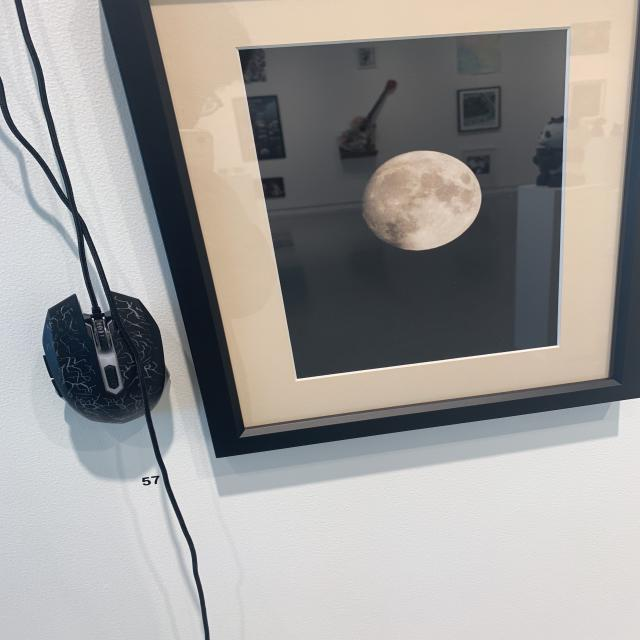Mouse: (35, 282, 193, 438)
